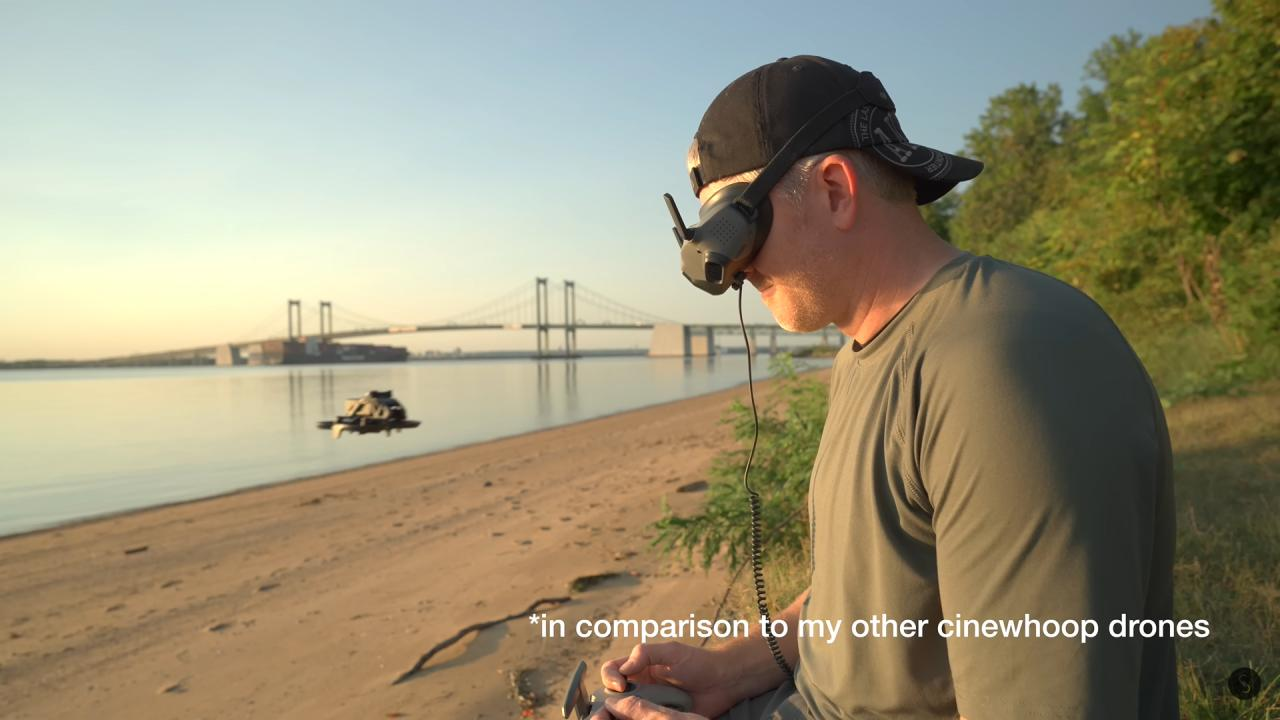Drone: (303, 381, 430, 450)
